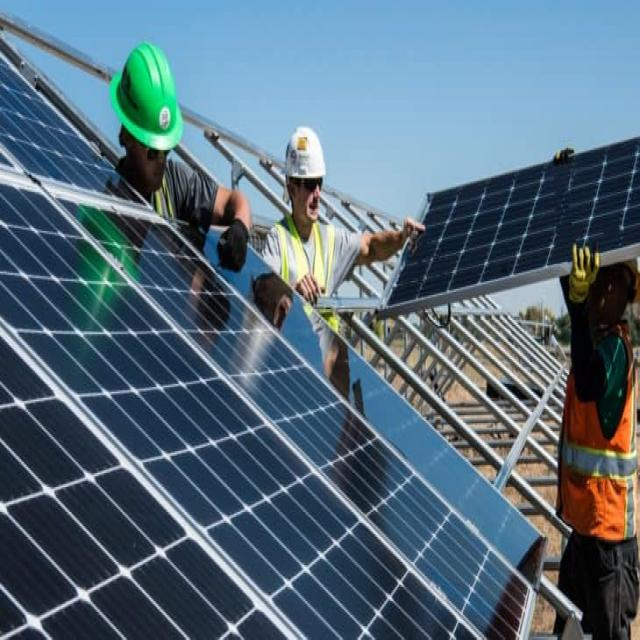clean-solar-panel: (1, 36, 544, 639)
